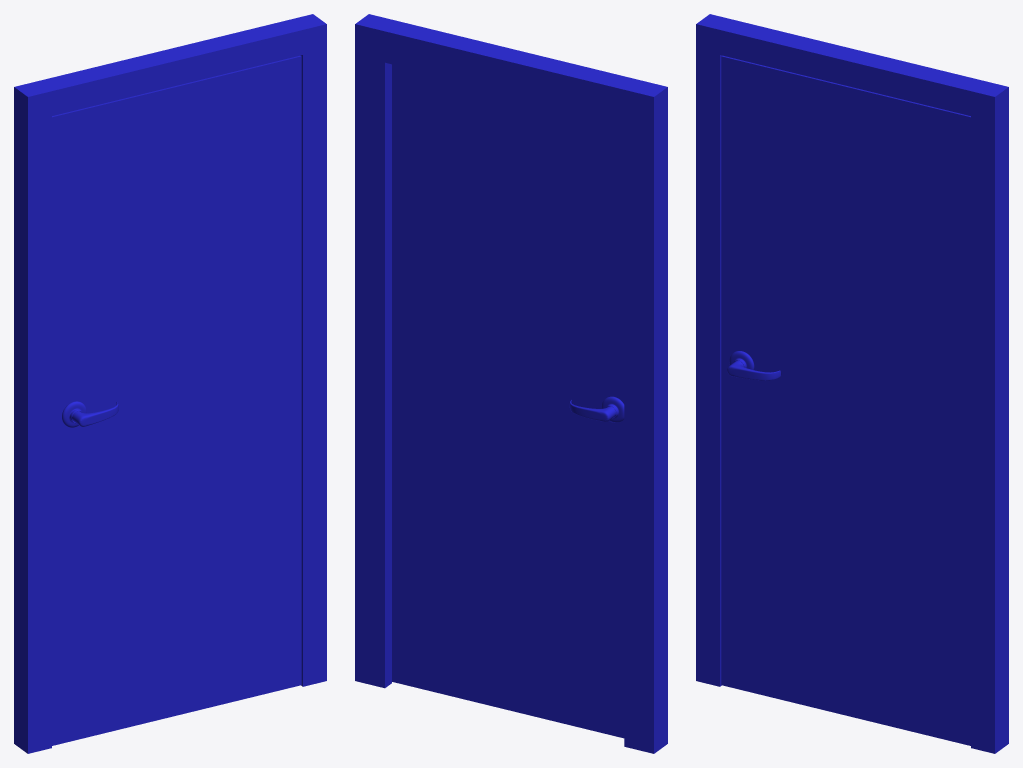
The picture shows the model from 3 angles, left to right: view 1: azimuth 30°, elevation 25°; view 2: azimuth 150°, elevation 25°; view 3: azimuth 330°, elevation 25°; orthographic projection.
Visible parts, largest first — view 1: Door, DoorFrame, Handle_Back; view 2: Door, DoorFrame, Handle_Front; view 3: Door, DoorFrame, Handle_Back.
Part boxes in pixels (x1=…): Door: x1=52, y1=55, x2=301, y2=745; DoorFrame: x1=14, y1=14, x2=326, y2=753; Handle_Back: x1=62, y1=401, x2=118, y2=427; Door: x1=392, y1=64, x2=624, y2=738; DoorFrame: x1=355, y1=14, x2=667, y2=753; Handle_Front: x1=569, y1=396, x2=624, y2=422; Door: x1=721, y1=55, x2=970, y2=745; DoorFrame: x1=696, y1=14, x2=1008, y2=753; Handle_Back: x1=727, y1=351, x2=781, y2=380.
Bounding box in the file's own units: 1 × 2.1 × 0.1688.
